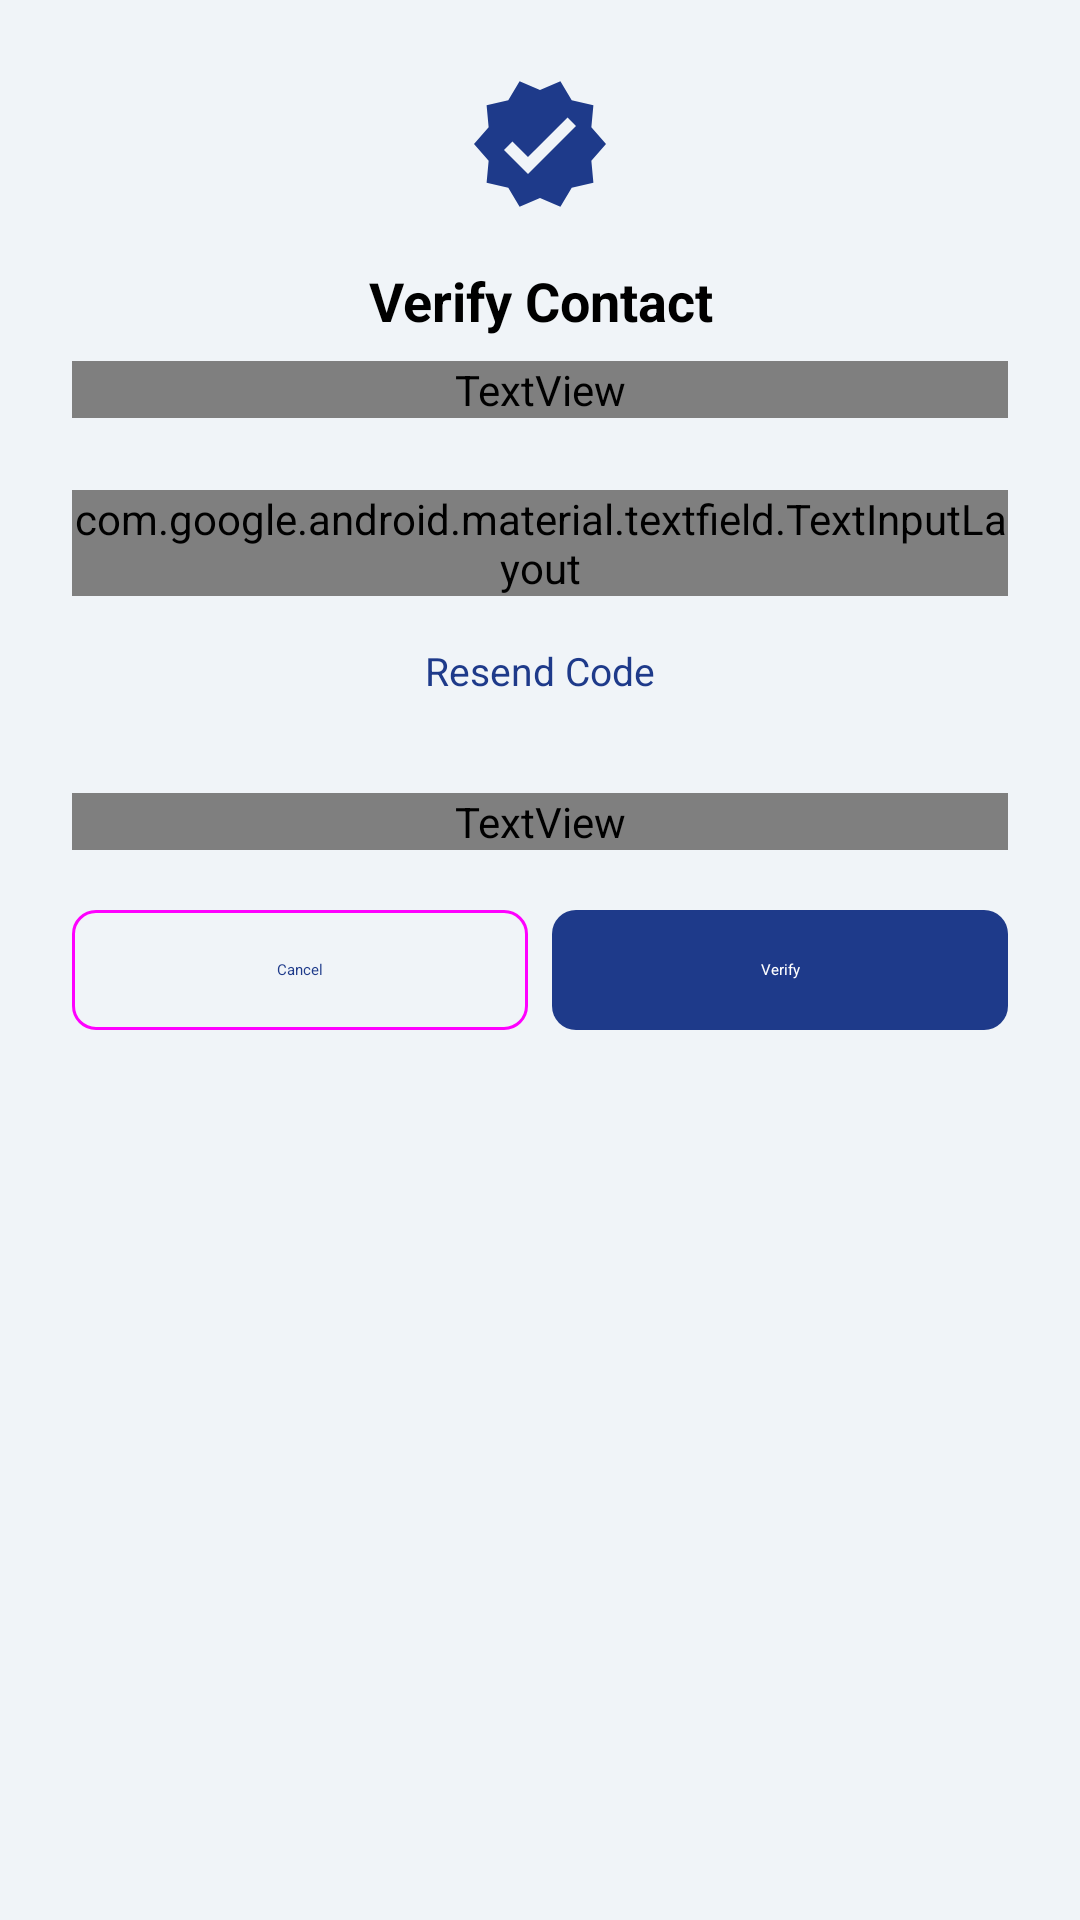

Icons on this 1080×1920 Android screen, each with the point to tap as [x,y]:
Verification icon: [540,144]
